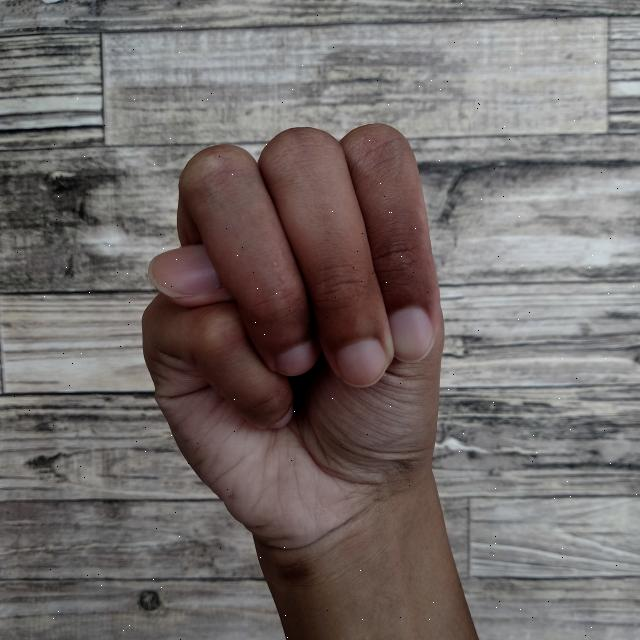M: (136, 116, 479, 640)
